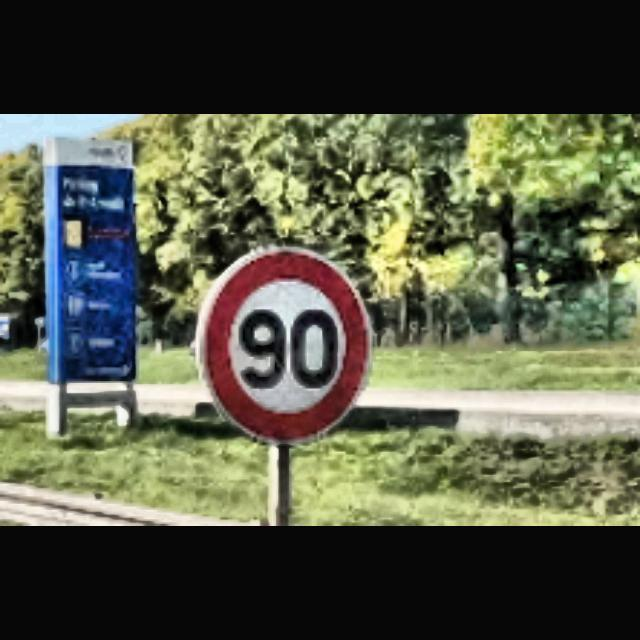speed_90: (198, 241, 372, 447)
